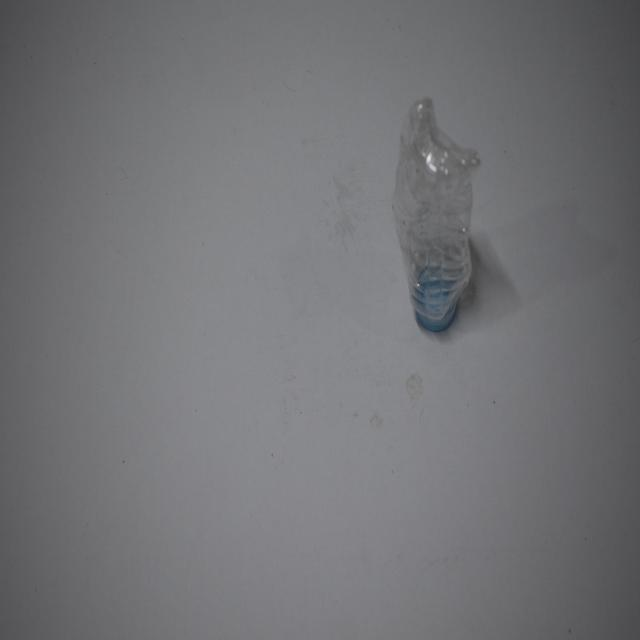empty: (392, 98, 480, 331)
